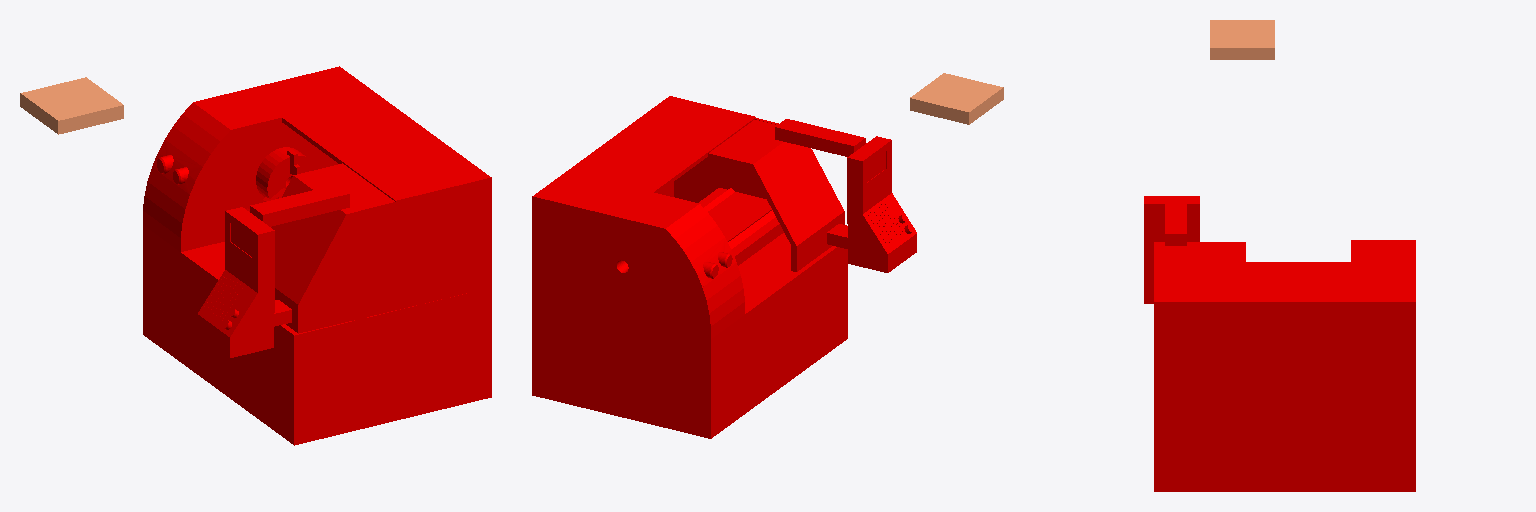
robot.urdf — NIST_Robot:
<?xml version="1.0" ?>
<!-- =================================================================================== -->
<!-- |    This document was autogenerated by xacro from mtconnect_m16ib20_demo_env.xacro | -->
<!-- |    EDITING THIS FILE BY HAND IS NOT RECOMMENDED                                 | -->
<!-- =================================================================================== -->
<robot name="NIST_Robot" xmlns:xacro="http://ros.org/wiki/xacro">
  <!-- parameters -->
  <!-- color definitions -->
  <material name="blue">
    <color rgba="0 0 1 1"/>
  </material>
  <material name="yellow">
    <color rgba="1 1 0 1"/>
  </material>
  <material name="orange">
    <color rgba="1 0.66 0.48 1"/>
  </material>
  <material name="red">
    <color rgba="1 0 0 1"/>
  </material>
  <material name="light_blue">
    <color rgba="0.78 0.94 0.965 1"/>
  </material>
  <!-- robot definitions, also defined in robot urdf -->
  <link name="base_link"/>
  <!-- link definitions -->
  <link name="world_frame"/>
  <link name="robot_platform_link">
    <visual>
      <origin rpy="0 0 0" xyz="0.0 0.0 -0.05"/>
      <geometry>
        <box size="0.5 0.5 0.1"/>
      </geometry>
      <material name="orange"/>
    </visual>
  </link>
  <link name="cnc_link">
    <visual>
      <geometry>
        <mesh filename="package://mtconnect_example_launch/meshes/cnc_lathe.STL"/>
      </geometry>
      <material name="red"/>
    </visual>
  </link>
  <!-- joint definitions -->
  <joint name="world_to_platform_joint" type="fixed">
    <origin rpy="3.1417 0 0" xyz="0.2 0 2"/>
    <parent link="world_frame"/>
    <child link="robot_platform_link"/>
  </joint>
  <joint name="world_to_cnc_joint" type="fixed">
    <origin rpy="1.5708 0 -1.5708" xyz="3.0 1.325 -0.45"/>
    <parent link="world_frame"/>
    <child link="cnc_link"/>
  </joint>
  <joint name="platform_to_base_joint" type="fixed">
    <origin rpy="0 0 0" xyz="0 0 0"/>
    <parent link="robot_platform_link"/>
    <child link="base_link"/>
  </joint>
</robot>

--- Render facts (derived) ---
The picture shows the robot from 3 angles, left to right: view 1: azimuth 30°, elevation 25°; view 2: azimuth 150°, elevation 25°; view 3: azimuth 270°, elevation 25°; orthographic projection.
Robot: NIST_Robot — 4 links, 3 joints (3 fixed); root link world_frame; default pose: every joint at zero.
Links seen in each view (by area): view 1: cnc_link, robot_platform_link; view 2: cnc_link, robot_platform_link; view 3: cnc_link, robot_platform_link.
Boxes of the visible links, x1,y1,x2,y2 form: cnc_link: (143,66,491,445); robot_platform_link: (20,77,123,134); cnc_link: (532,96,916,438); robot_platform_link: (910,73,1003,124); cnc_link: (1144,196,1415,491); robot_platform_link: (1210,20,1274,59).
Bounding box of the posed robot: 3.05 × 2.08 × 2.55 m (x, y, z).
Meshes: 1 distinct files referenced, 1 mesh visuals loaded (1 binary STL).